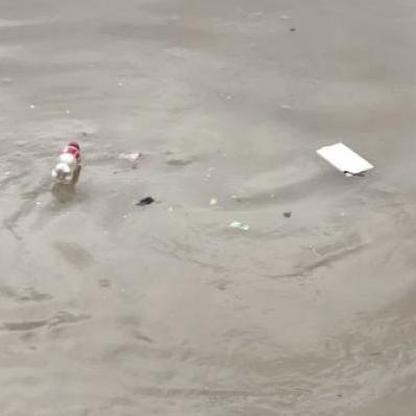foam: (315, 141, 374, 175)
plastic bottle: (53, 142, 80, 184)
